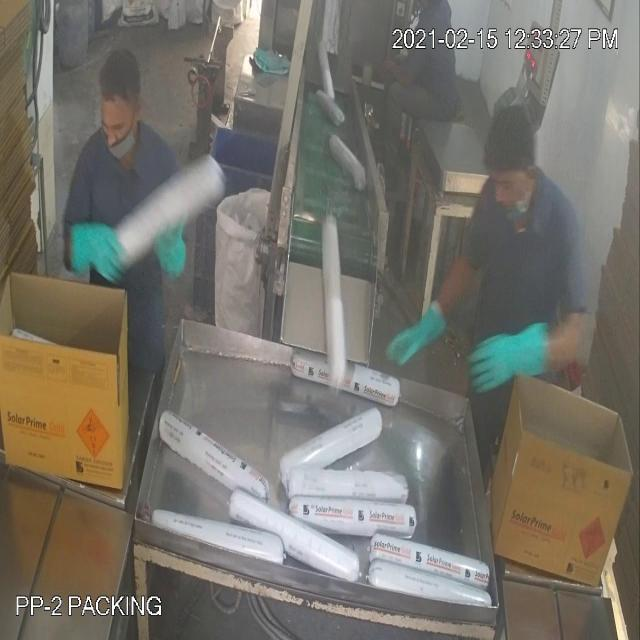gloves: (462, 315, 568, 406), (380, 275, 452, 383), (70, 210, 124, 284)
no-gloves: (370, 52, 416, 98)
